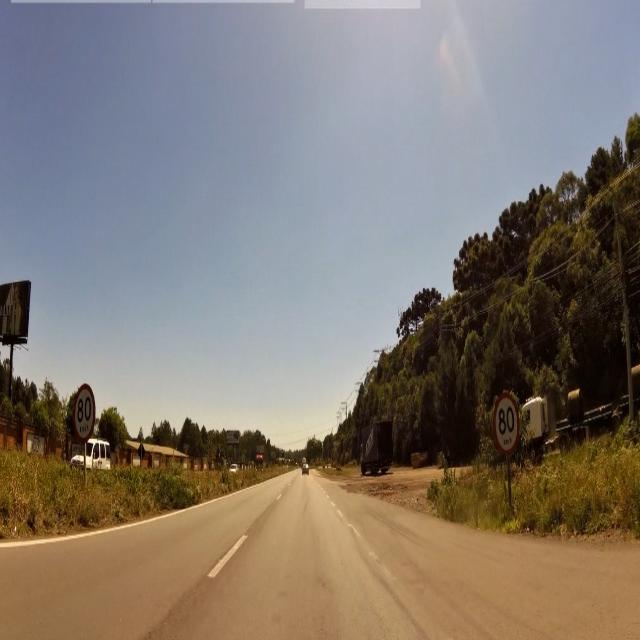R-19: (494, 392, 520, 458)
